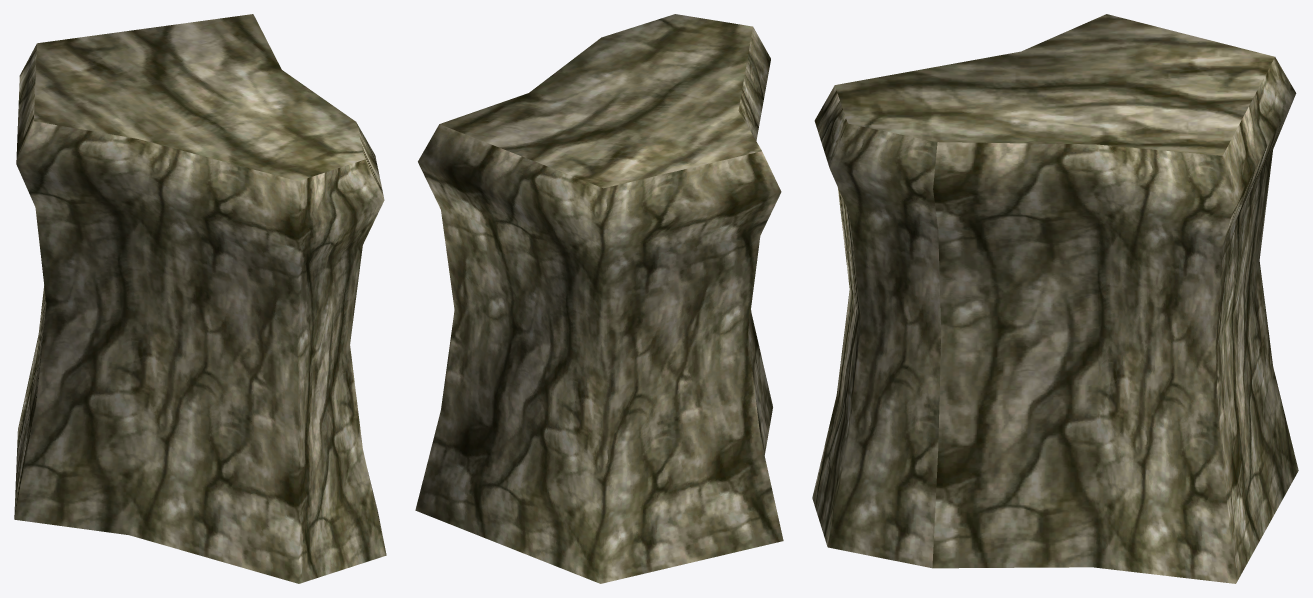
File: CB_NEWPLAYSURFACE_CB_PLAYSURFACE03.fbx
3 views of the same model, side by side, from view 1: azimuth 30°, elevation 25°; view 2: azimuth 150°, elevation 25°; view 3: azimuth 270°, elevation 25° (orthographic). The views are drawn at different scales.
Parts seen in each view (by area): view 1: CB_NEWPLAYSURFACE_CB_PLAYSURFACE03; view 2: CB_NEWPLAYSURFACE_CB_PLAYSURFACE03; view 3: CB_NEWPLAYSURFACE_CB_PLAYSURFACE03.
Part boxes in pixels (<box>): CB_NEWPLAYSURFACE_CB_PLAYSURFACE03: <box>14,14,386,583</box>; CB_NEWPLAYSURFACE_CB_PLAYSURFACE03: <box>415,14,783,583</box>; CB_NEWPLAYSURFACE_CB_PLAYSURFACE03: <box>812,14,1298,583</box>.
Bounding box in the file's own units: 56175 × 67435 × 71008.
Materials: 2 (2 with a texture image).
